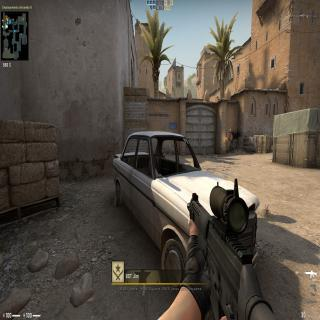T-Head: (229, 131, 231, 136)
